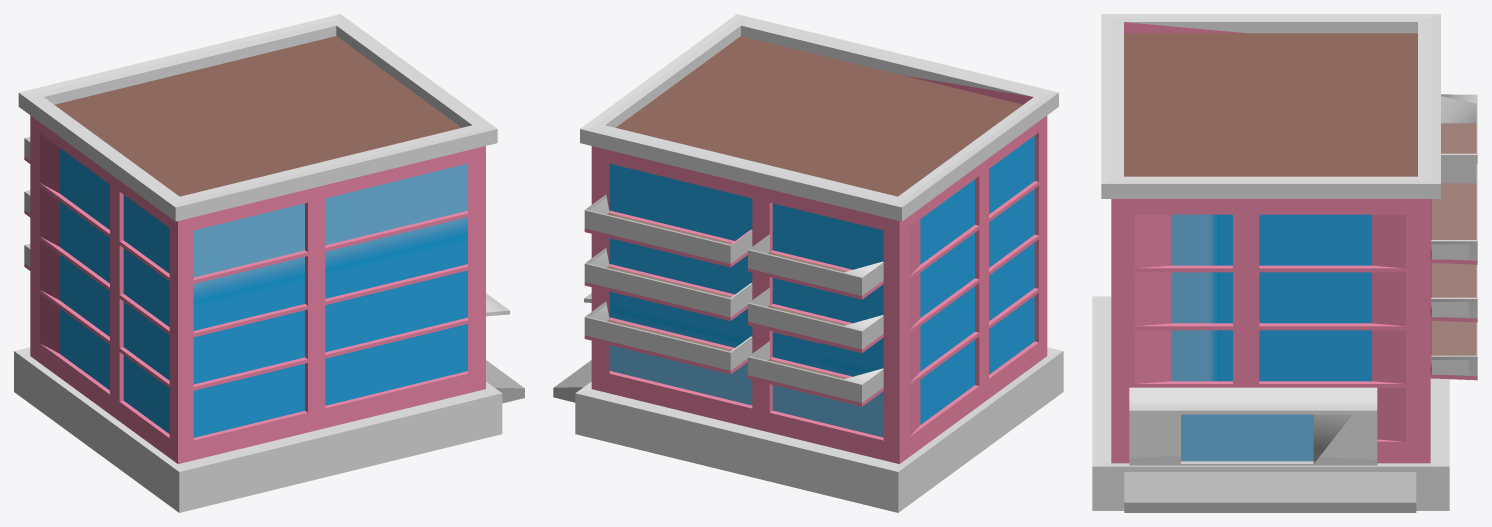
Rendered from PinkBuilding4x5x5.fbx.
3 renders of one model, left to right at view 1: azimuth 30°, elevation 25°; view 2: azimuth 150°, elevation 25°; view 3: azimuth 270°, elevation 25°, orthographic. The views are drawn at different scales.
Parts seen in each view (by area): view 1: House; view 2: House; view 3: House.
Part boxes in pixels (x1,y1,x2,y2): House: [14, 14, 524, 512]; House: [553, 14, 1063, 512]; House: [1092, 14, 1477, 512].
Bounding box in the file's own units: 6.24 × 5 × 5.34.
1 material, 1 textured.
